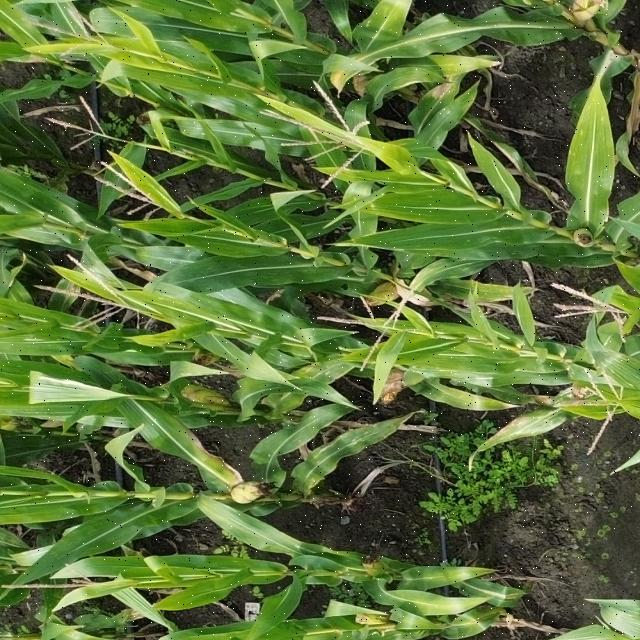gray-leaf-spot: (274, 416, 386, 502), (446, 214, 556, 297), (259, 330, 362, 418), (336, 336, 518, 379)
northern-leaf-blight: (150, 415, 257, 510), (314, 56, 371, 104)
southern-leaf-blight: (561, 108, 628, 246)
